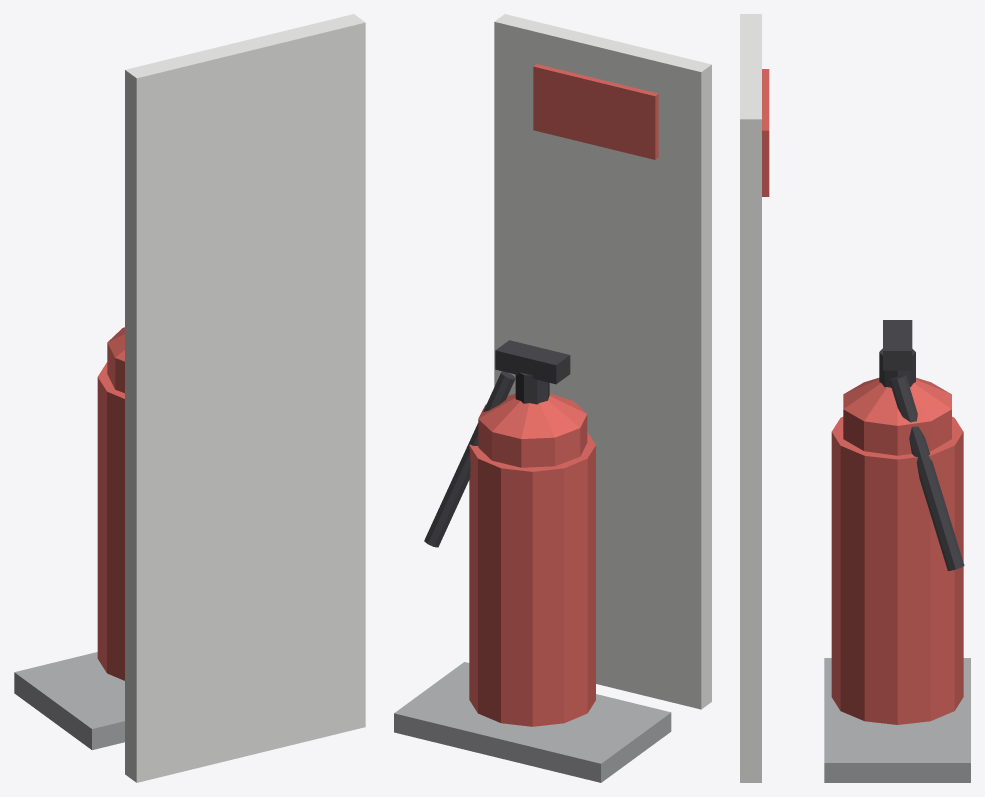
Rendered from fire_extinguisher.glb.
3 views of the same model, side by side, from view 1: azimuth 30°, elevation 25°; view 2: azimuth 150°, elevation 25°; view 3: azimuth 270°, elevation 25° (orthographic). The views are drawn at different scales.
Visible parts, largest first — view 1: fire_extinguisher; view 2: fire_extinguisher; view 3: fire_extinguisher.
Part boxes in pixels (x1,y1,x2,y2): fire_extinguisher: (14, 14, 365, 782); fire_extinguisher: (394, 14, 711, 782); fire_extinguisher: (740, 14, 970, 782).
Size of the model in its own units: 0.34 by 1 by 0.315.
